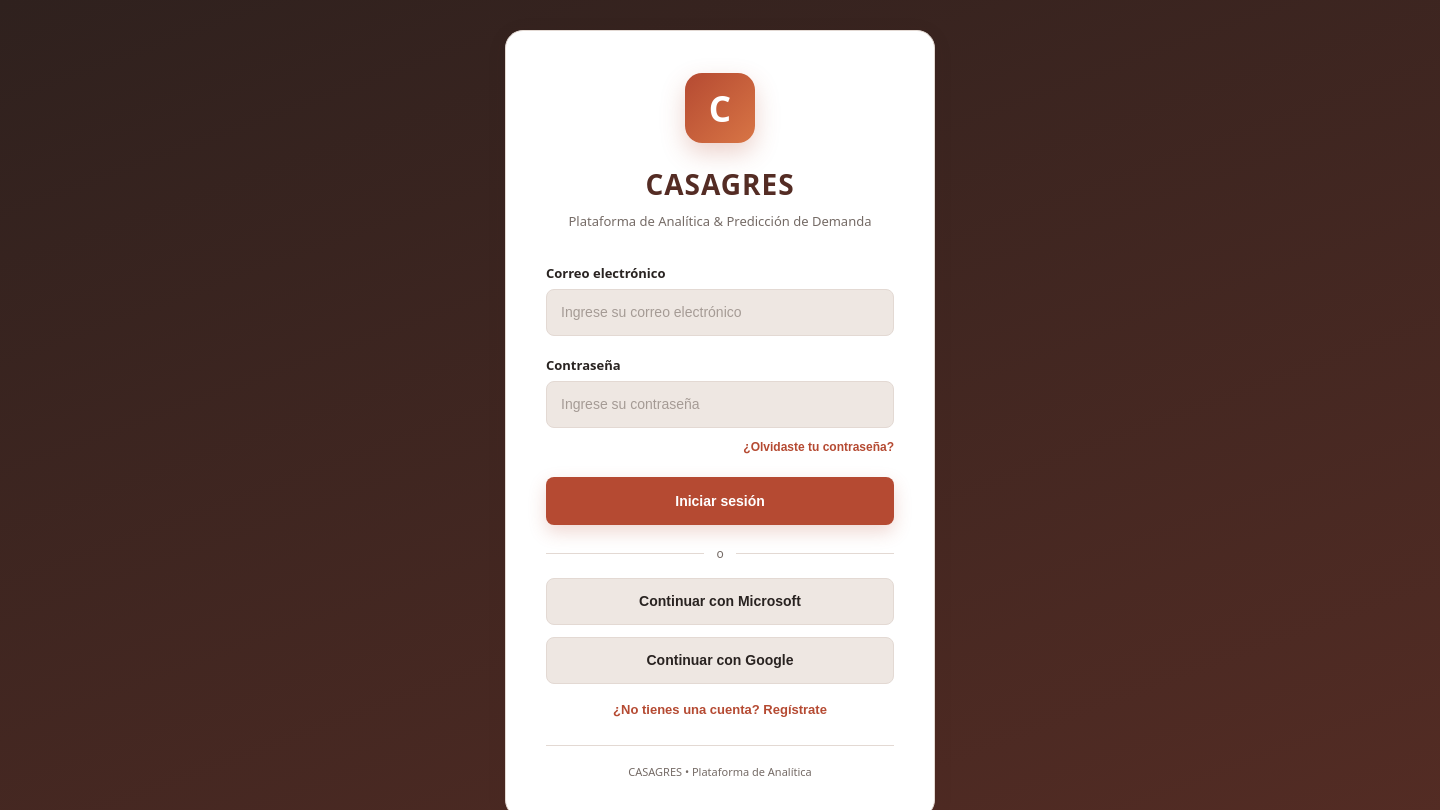
Test: Login › muestra un error genérico cuando falla la conexión
In the field with placeholder "Ingrese su correo electrónico": (720, 312) [546, 288, 894, 336], type "jperez@ejemplo.com"
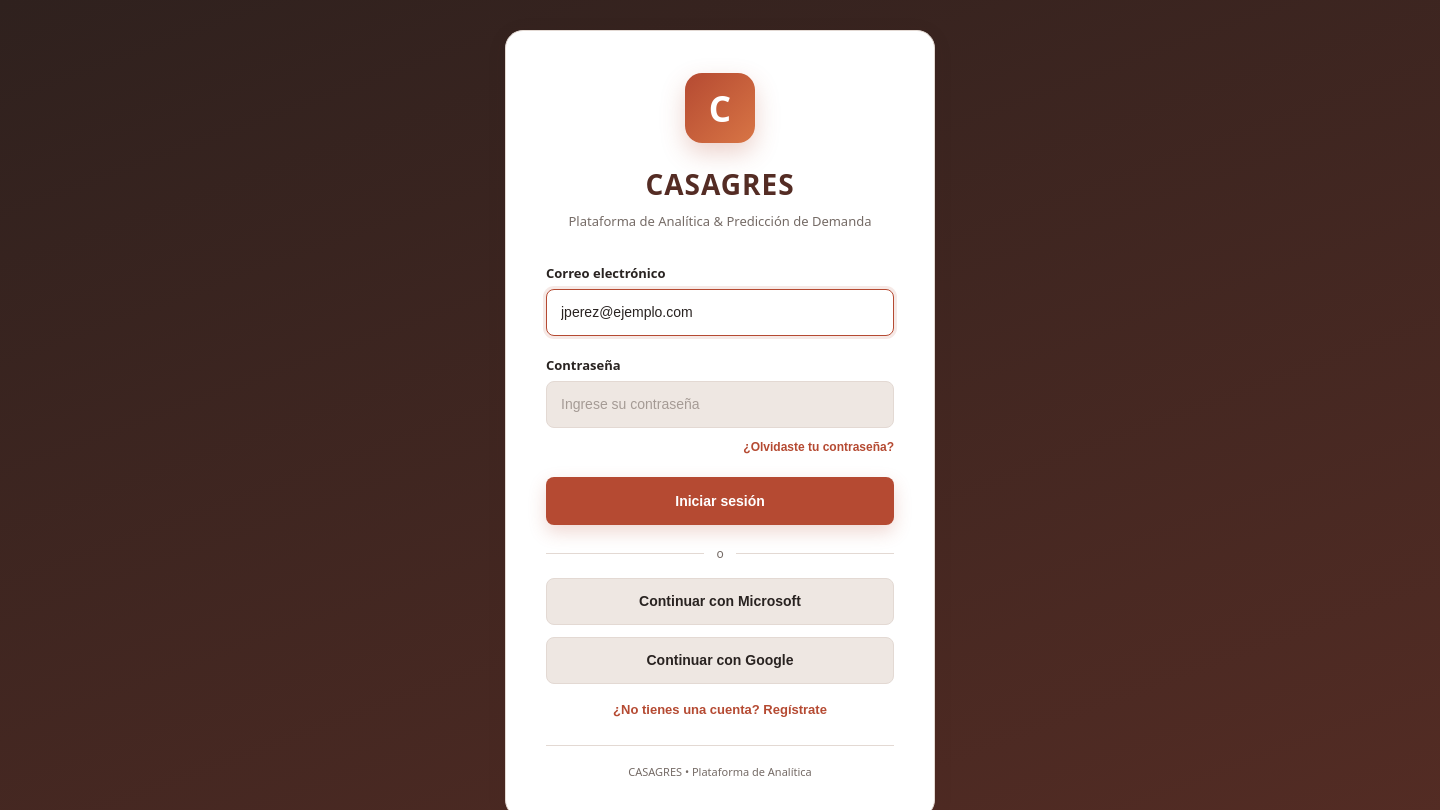
In the password field with placeholder "Ingrese su contraseña": (720, 404) [546, 380, 894, 428], type "clave123"
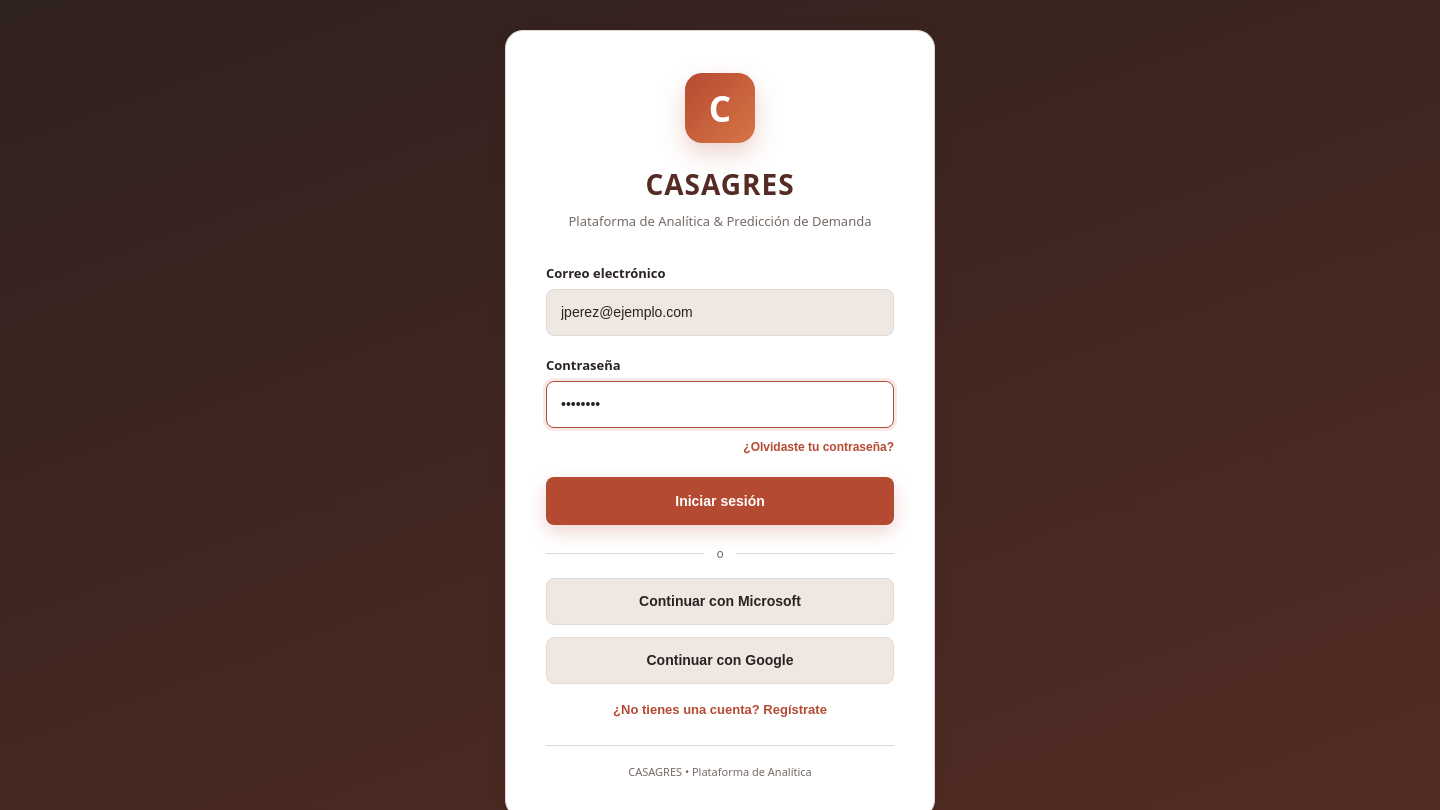
Click the button "Iniciar sesión": (720, 500) [546, 476, 894, 524]
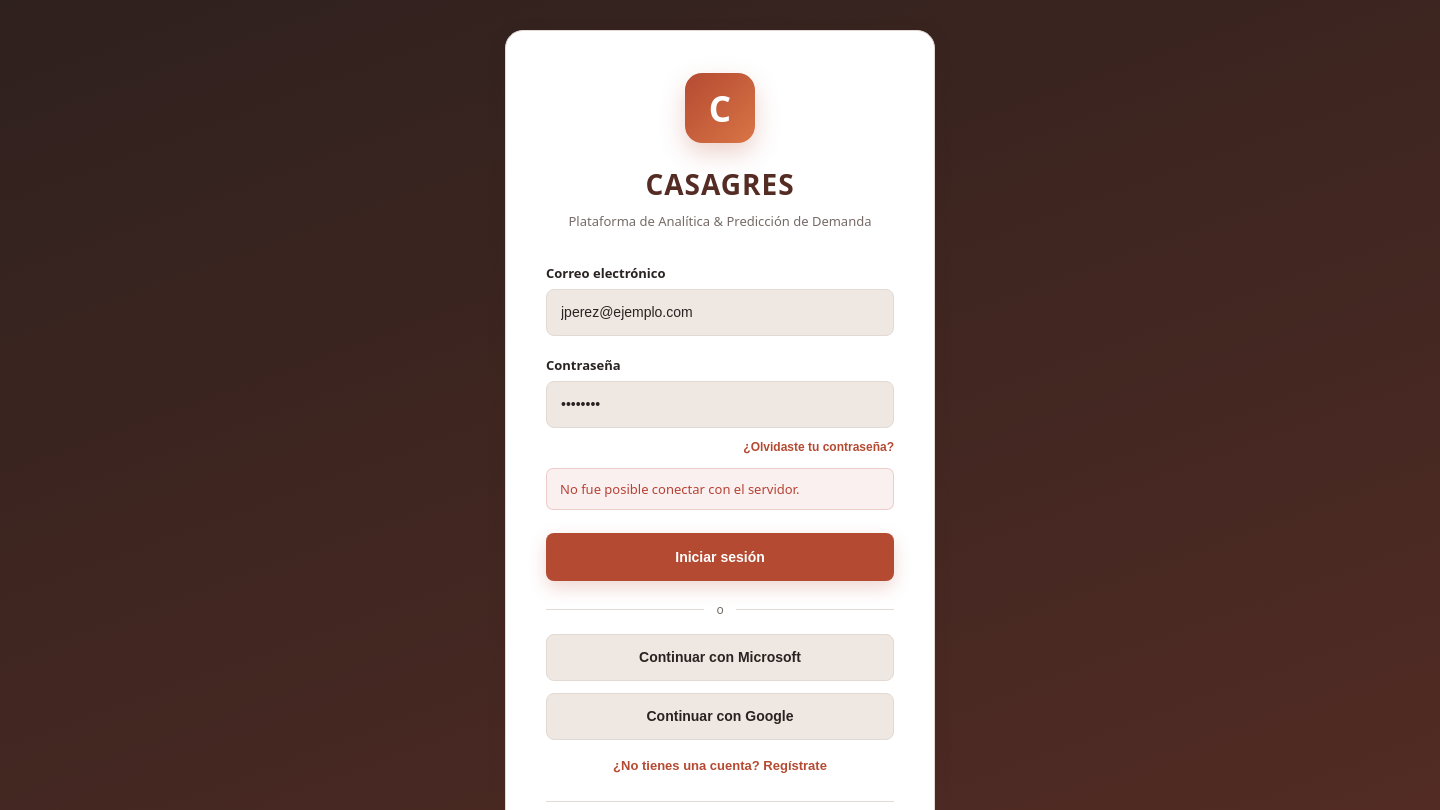
Expected: the text "No fue posible conectar con el servidor." is shown, [546, 468, 894, 510]
